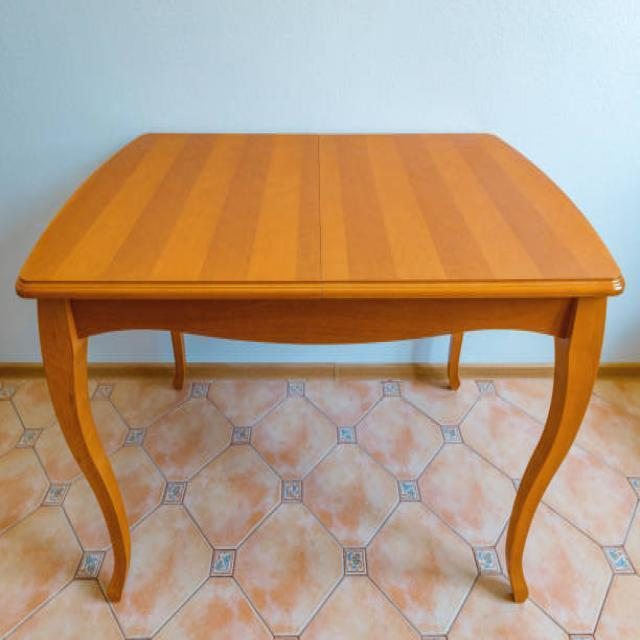table: (14, 128, 626, 606)
